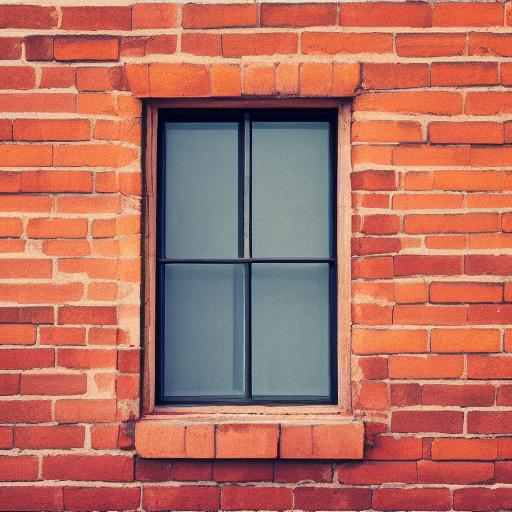Window: (111, 62, 368, 464)
